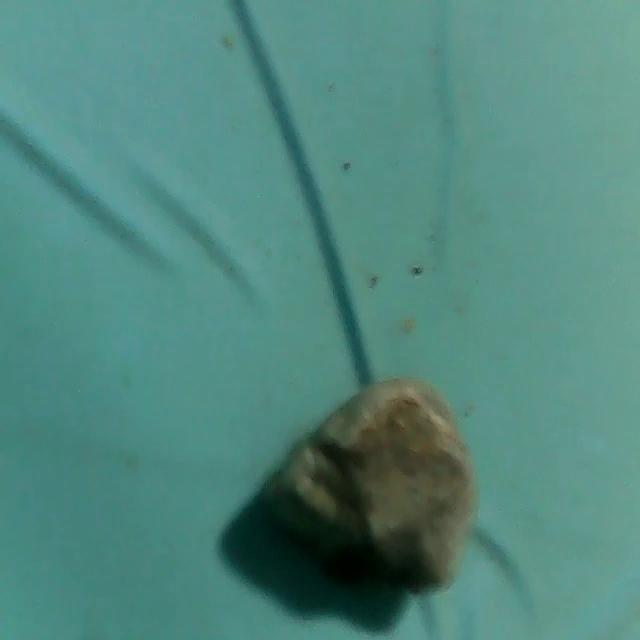rock: (248, 372, 497, 604)
